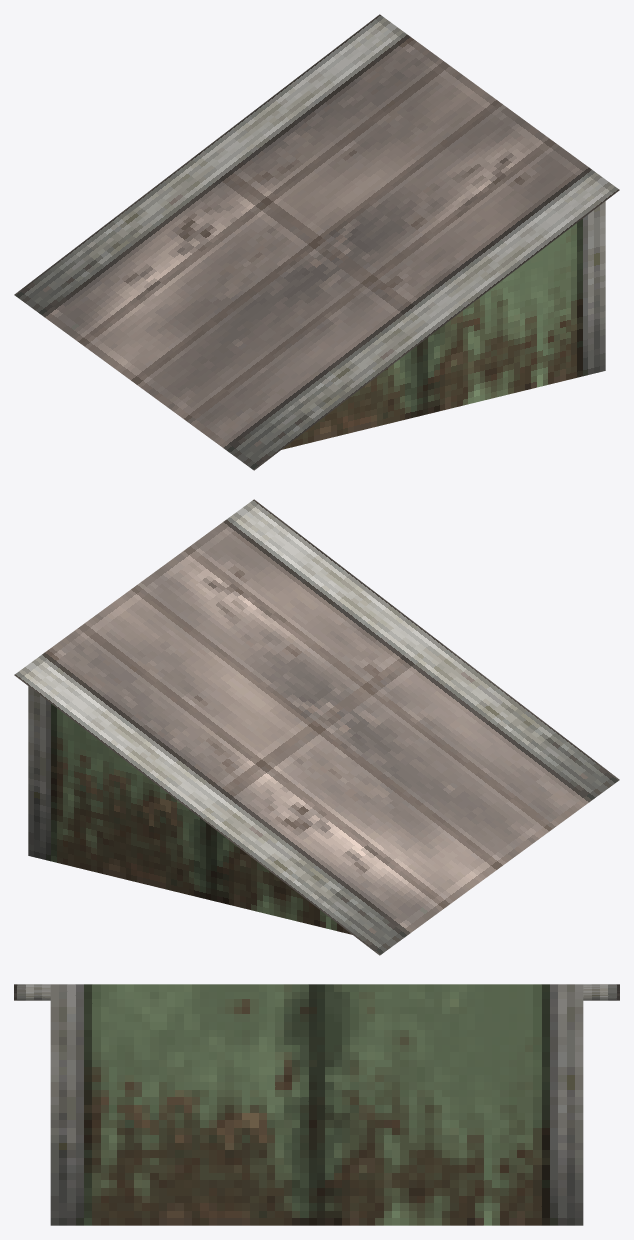
Rendered from wallB_roofSlantDetailed.fbx.
3 renders of one model, top to bottom at view 1: azimuth 30°, elevation 25°; view 2: azimuth 150°, elevation 25°; view 3: azimuth 270°, elevation 25°, orthographic. The views are drawn at different scales.
Visible parts, largest first — view 1: wallB_roofSlantDetailed; view 2: wallB_roofSlantDetailed; view 3: wallB_roofSlantDetailed.
Boxes of the visible parts, x1,y1,x2,y2 form: wallB_roofSlantDetailed: (14, 14, 619, 470); wallB_roofSlantDetailed: (14, 499, 619, 955); wallB_roofSlantDetailed: (14, 984, 619, 1225).
Bounding box in the file's own units: 10 × 5 × 11.37.
